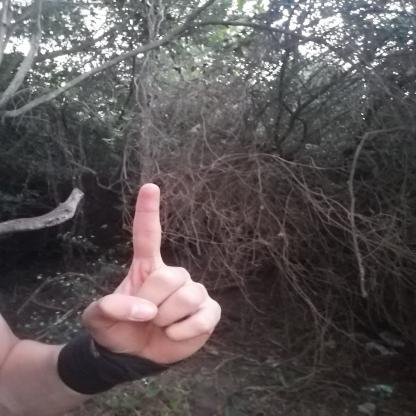BAA: (70, 171, 238, 372)
